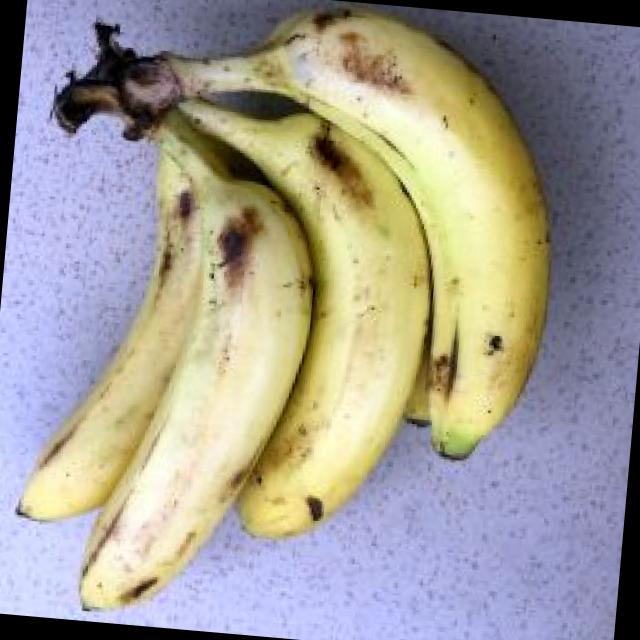banana: (140, 152, 537, 597)
